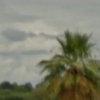Palm tree: (50, 23, 96, 97)
